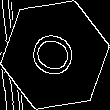O_E: (25, 26, 85, 84)
